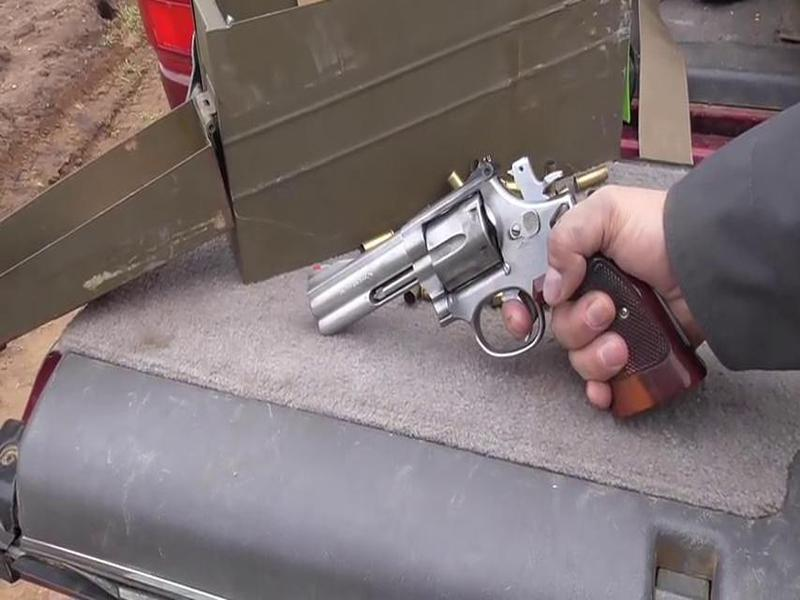Revolver: (289, 144, 673, 409)
